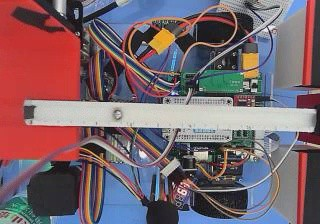ironball: (111, 107, 121, 118)
